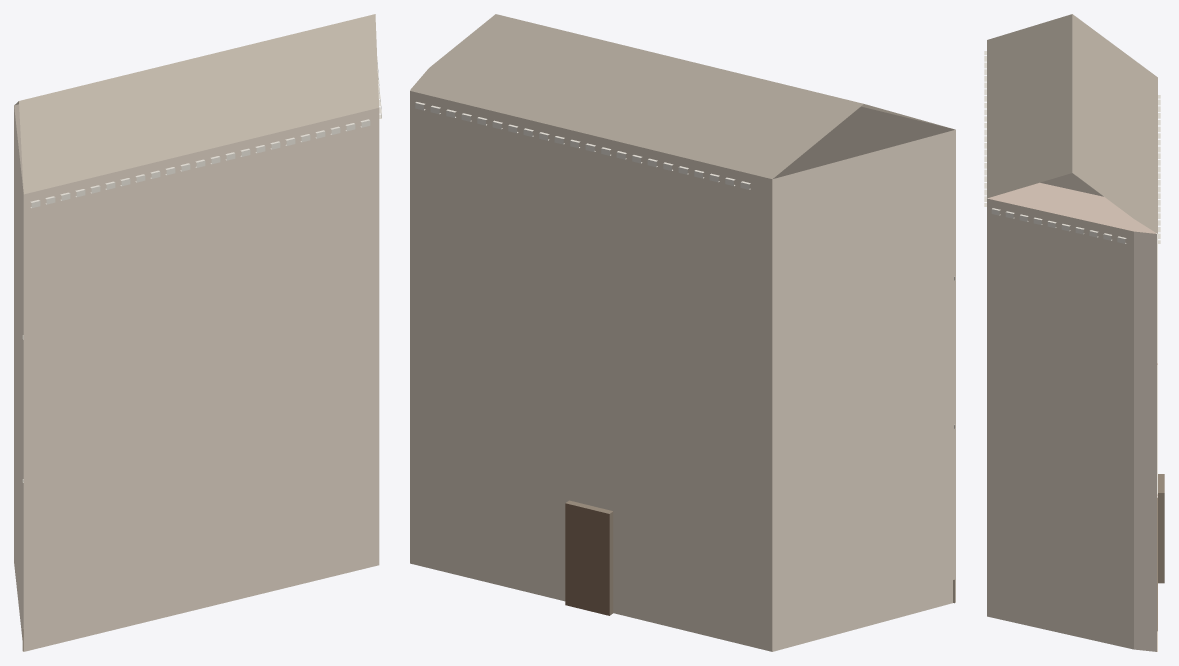
3 views of the same model, side by side, from view 1: azimuth 30°, elevation 25°; view 2: azimuth 150°, elevation 25°; view 3: azimuth 270°, elevation 25° (orthographic). The views are drawn at different scales.
Parts seen in each view (by area): view 1: N-52; view 2: N-52; view 3: N-52.
Part boxes in pixels (x1,y1,x2,y2): N-52: [14, 14, 381, 651]; N-52: [410, 14, 955, 651]; N-52: [984, 14, 1164, 651].
Size of the model in its own units: 10.15 by 11.29 by 3.99.
